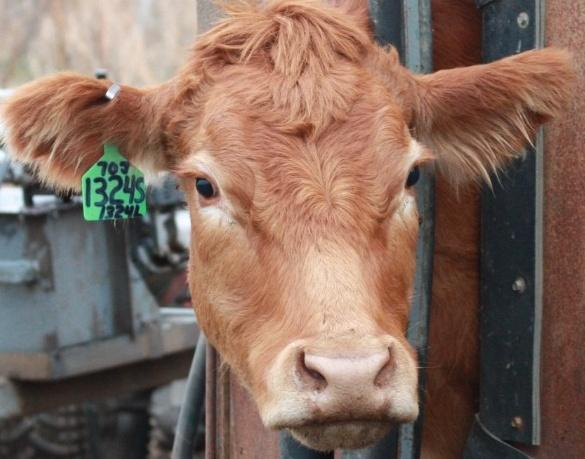muzzles: (255, 338, 424, 451)
